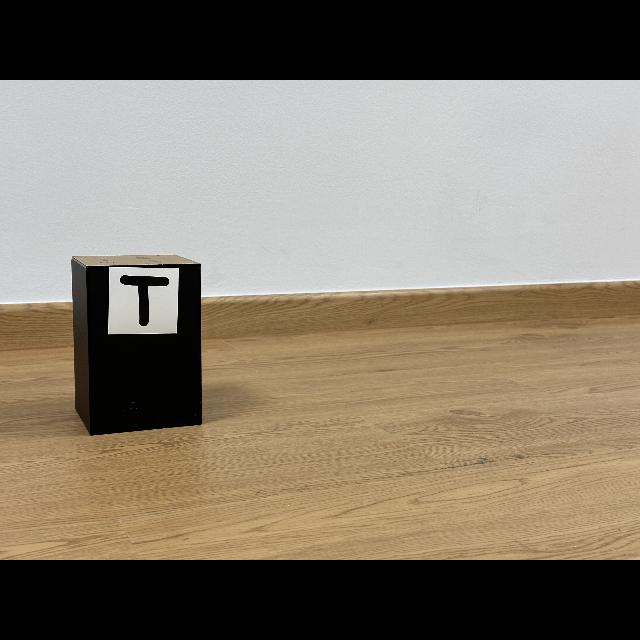T: (120, 275, 169, 326)
